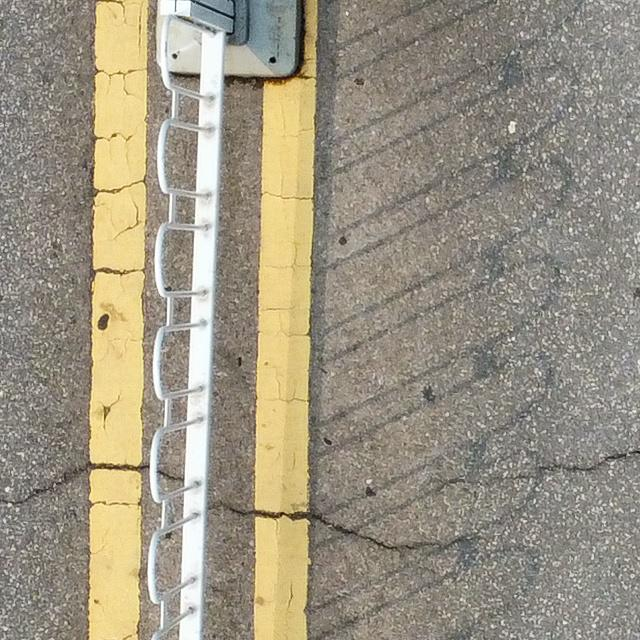TransverseCrack: (211, 500, 469, 550), (2, 459, 187, 503), (534, 448, 640, 475)
